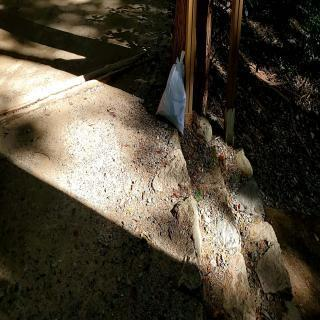Garbage: (157, 48, 190, 137)
